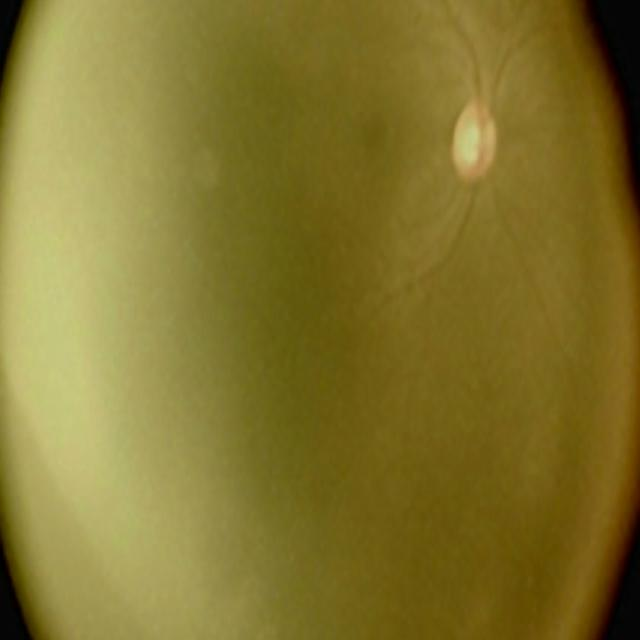optic-nerve: (428, 48, 529, 238)
